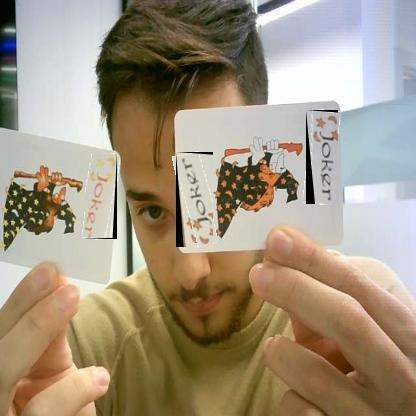RED JOKER: (176, 152, 213, 247), (306, 110, 338, 204), (85, 154, 117, 240)
